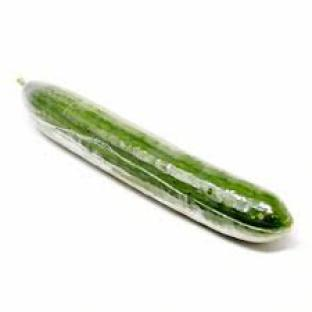Cucumber: (20, 81, 292, 242)
